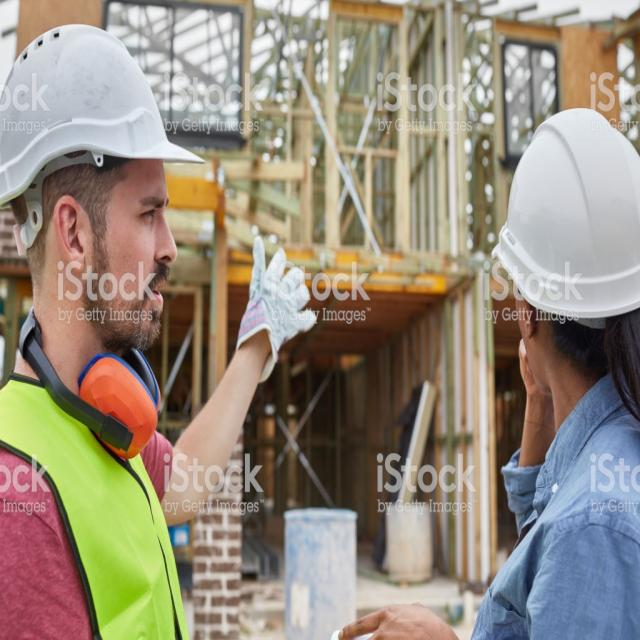Reflective-Jacket: (0, 331, 190, 640)
Safety-Helmet: (0, 19, 200, 209), (490, 101, 640, 320)
